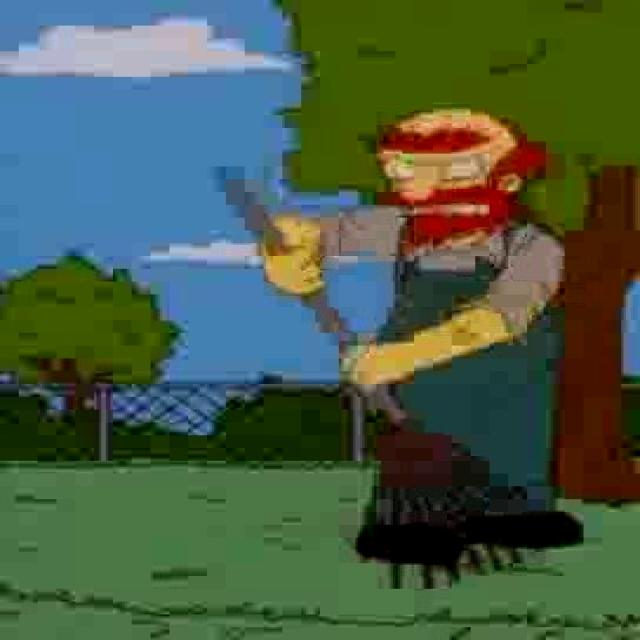Groundskeeper Willie: (364, 105, 554, 260)
